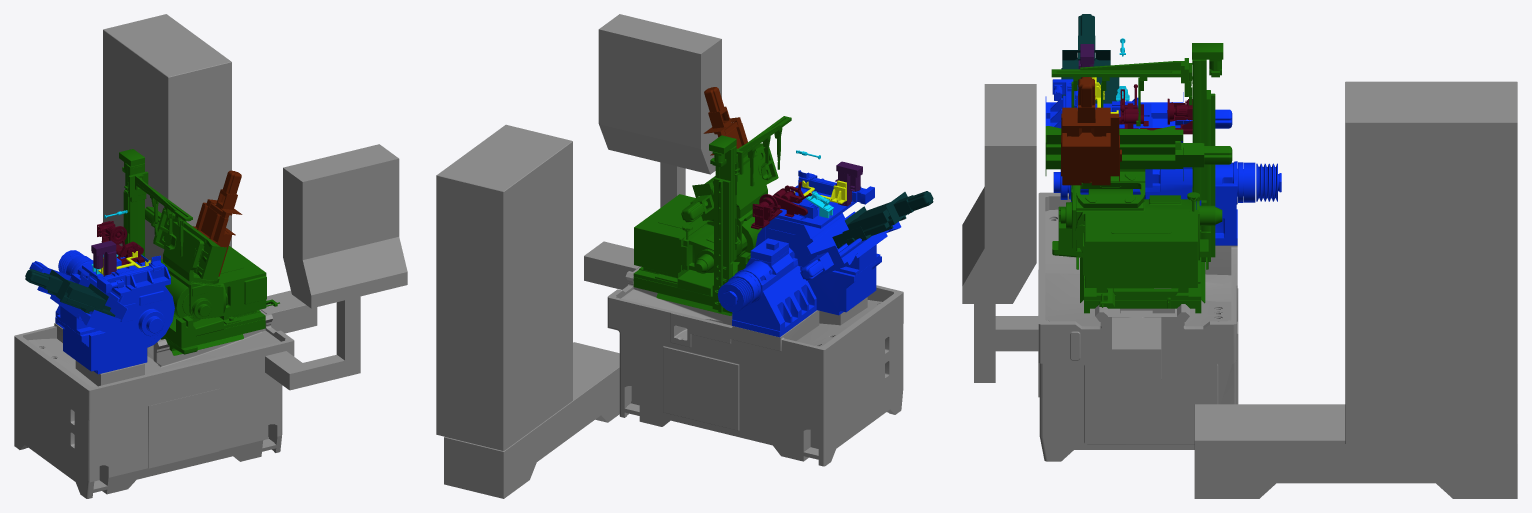
Rendered from 新_無心研磨機+CCD - 複製.FBX.
3 views of the same model, side by side, from view 1: azimuth 30°, elevation 25°; view 2: azimuth 150°, elevation 25°; view 3: azimuth 270°, elevation 25° (orthographic). The views are drawn at different scales.
Visible parts, largest first — view 1: 底座, 砂輪_後, 砂輪_前, 研磨臂, 工件校正床_伸縮臂_A; view 2: 底座, 砂輪_前, 砂輪_後, 研磨臂, 工件校正床_伸縮臂_A; view 3: 底座, 砂輪_後, 砂輪_前, 研磨臂.
Part boxes in pixels (x1,y1,x2,y2): 底座: (14,14,407,498); 砂輪_後: (119,149,279,355); 砂輪_前: (25,221,174,374); 研磨臂: (127,171,192,256); 工件校正床_伸縮臂_A: (91,240,121,276); 底座: (436,14,903,498); 砂輪_前: (717,170,933,337); 砂輪_後: (633,87,778,315); 研磨臂: (736,116,791,186); 工件校正床_伸縮臂_A: (835,161,862,206); 底座: (962,81,1517,498); 砂輪_後: (1045,43,1232,313); 砂輪_前: (1045,14,1281,245); 研磨臂: (1051,58,1192,126).
Size of the model in its own units: 92.54 by 102 by 76.94.
